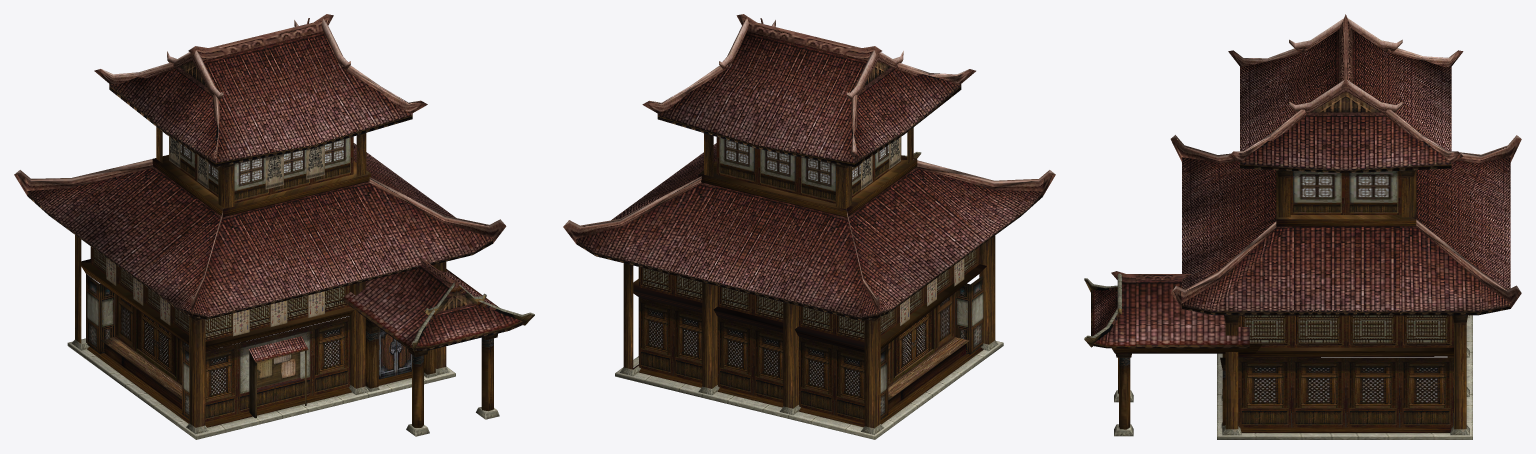
File: a1-011-workhouse_lod_01.glb
The picture shows the model from 3 angles, left to right: view 1: azimuth 30°, elevation 25°; view 2: azimuth 150°, elevation 25°; view 3: azimuth 270°, elevation 25°; orthographic projection.
Visible parts, largest first — view 1: a1-011-workhouse-01, a1-011-workhouse-02, a1-011-workhouse-03; view 2: a1-011-workhouse-01, a1-011-workhouse-02, a1-011-workhouse-03; view 3: a1-011-workhouse-01, a1-011-workhouse-02, a1-011-workhouse-03.
Part boxes in pixels (bbox=[...]): a1-011-workhouse-01: bbox=[14, 14, 506, 436]; a1-011-workhouse-02: bbox=[86, 136, 411, 421]; a1-011-workhouse-03: bbox=[67, 155, 534, 439]; a1-011-workhouse-01: bbox=[563, 14, 1055, 434]; a1-011-workhouse-02: bbox=[638, 137, 983, 422]; a1-011-workhouse-03: bbox=[615, 152, 1003, 439]; a1-011-workhouse-01: bbox=[1114, 14, 1521, 436]; a1-011-workhouse-02: bbox=[1238, 171, 1453, 427]; a1-011-workhouse-03: bbox=[1084, 170, 1472, 439].
Size of the model in its own units: 13.51 by 13.51 by 16.22.
Materials: 3 (3 with a texture image).
